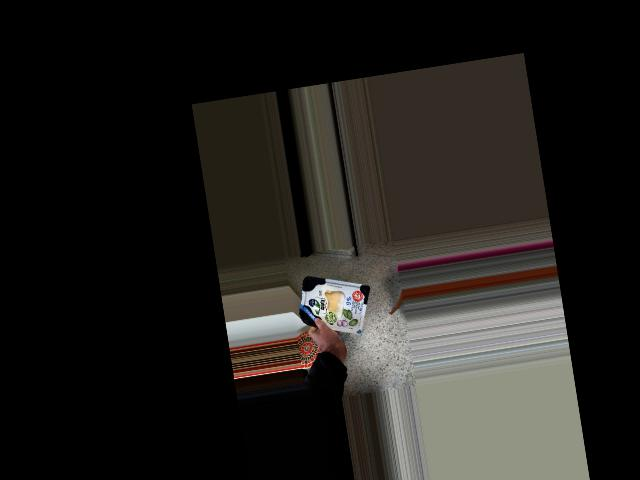cheese: (293, 266, 376, 341)
